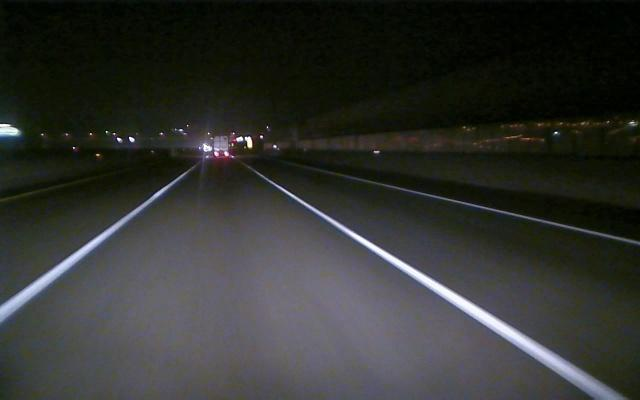lane: (265, 176, 624, 396), (3, 184, 171, 321), (368, 180, 640, 246), (0, 174, 107, 204)
